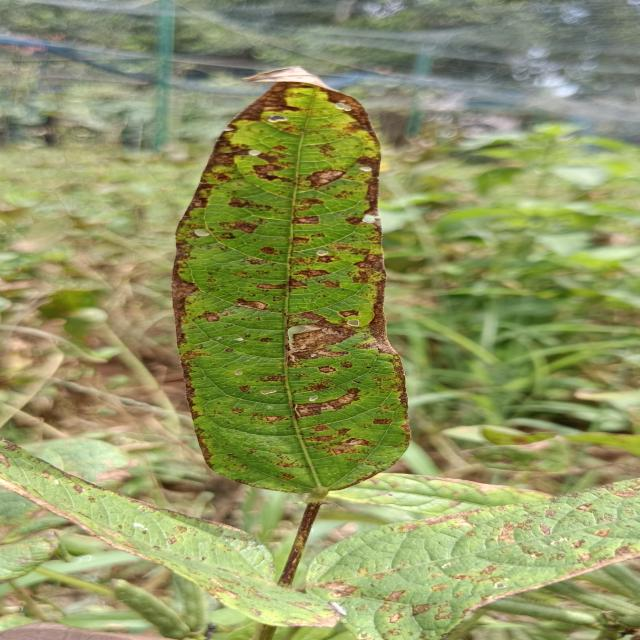Black gram_leaf spot: (178, 69, 404, 494)
